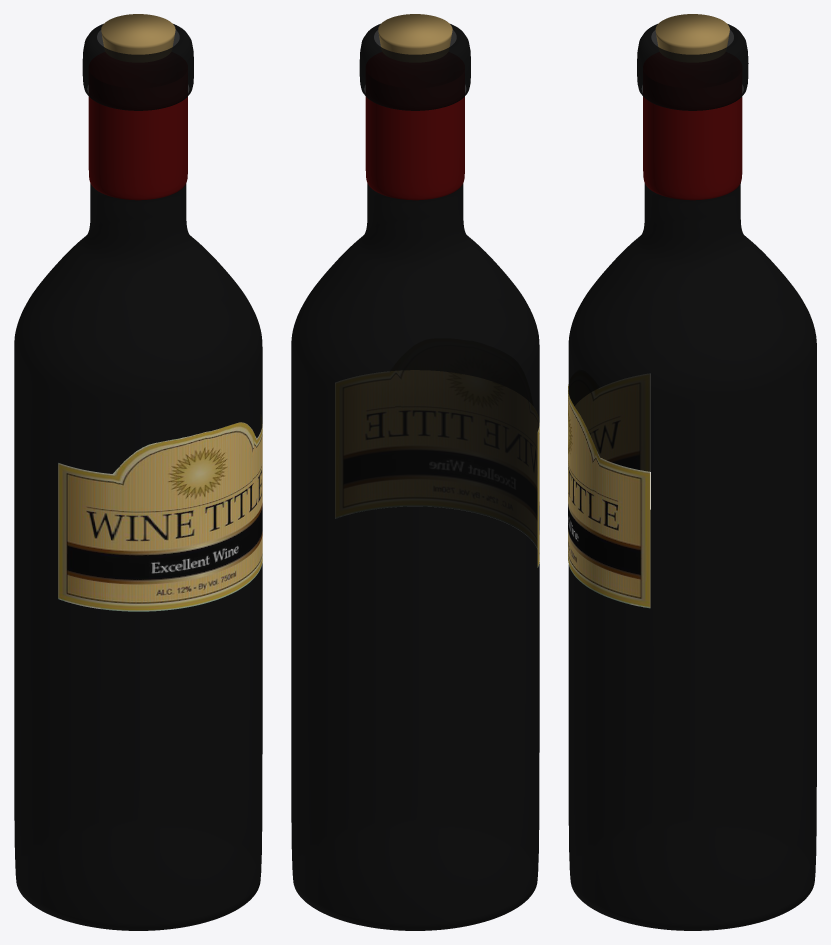
The model's file is vino.glb.
3 renders of one model, left to right at view 1: azimuth 30°, elevation 25°; view 2: azimuth 150°, elevation 25°; view 3: azimuth 270°, elevation 25°, orthographic.
Visible parts, largest first — view 1: Material_002-material.001, Material_001-material, Material_003-material, Material_002-material, Material_005-material; view 2: Material_002-material.001, Material_001-material, Material_003-material, Material_002-material, Material_005-material; view 3: Material_002-material.001, Material_001-material, Material_003-material, Material_002-material, Material_005-material.
Boxes of the visible parts, <box> form: Material_002-material.001: <box>14,183,262,930</box>; Material_001-material: <box>58,417,262,611</box>; Material_003-material: <box>88,52,187,200</box>; Material_002-material: <box>82,23,193,110</box>; Material_005-material: <box>101,14,175,61</box>; Material_002-material.001: <box>291,183,539,930</box>; Material_001-material: <box>336,370,539,567</box>; Material_003-material: <box>365,52,464,200</box>; Material_002-material: <box>359,23,470,110</box>; Material_005-material: <box>378,14,452,61</box>; Material_002-material.001: <box>568,183,816,930</box>; Material_001-material: <box>568,374,650,608</box>; Material_003-material: <box>643,52,742,200</box>; Material_002-material: <box>637,24,748,110</box>; Material_005-material: <box>655,14,729,61</box>.
Bounding box in the file's own units: 0.3257 × 1.23 × 0.3264.
4 materials, 1 textured.
